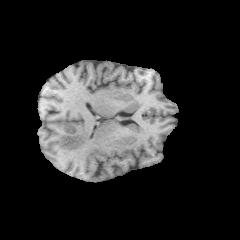glioma: (57, 132, 96, 153)
